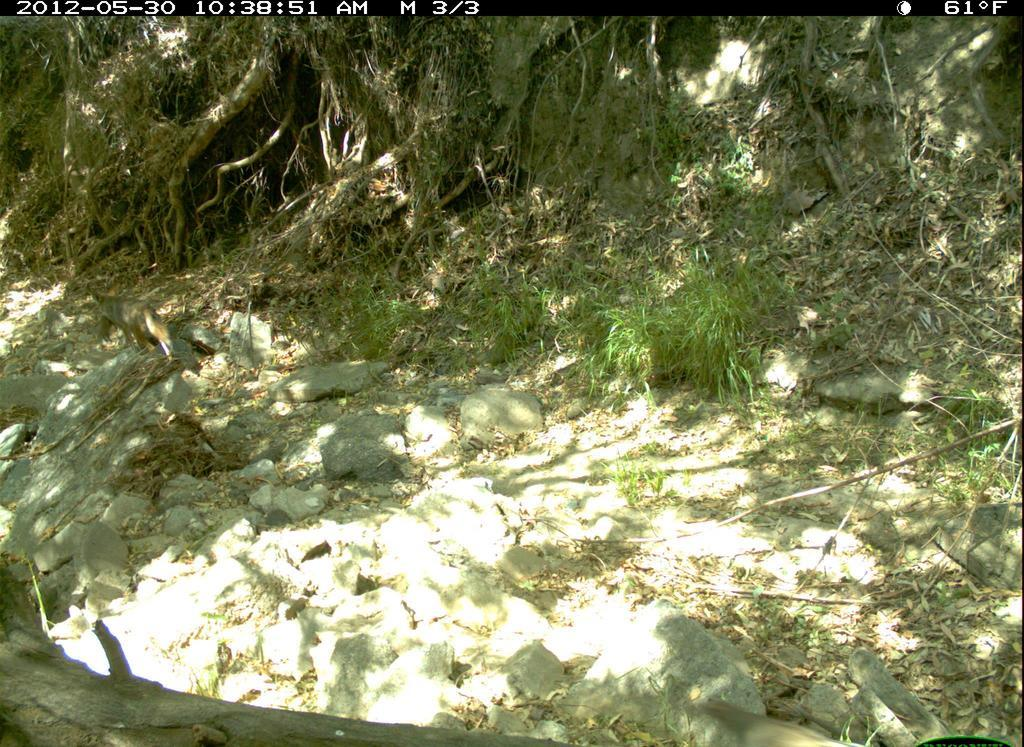coyote: (67, 285, 195, 382)
